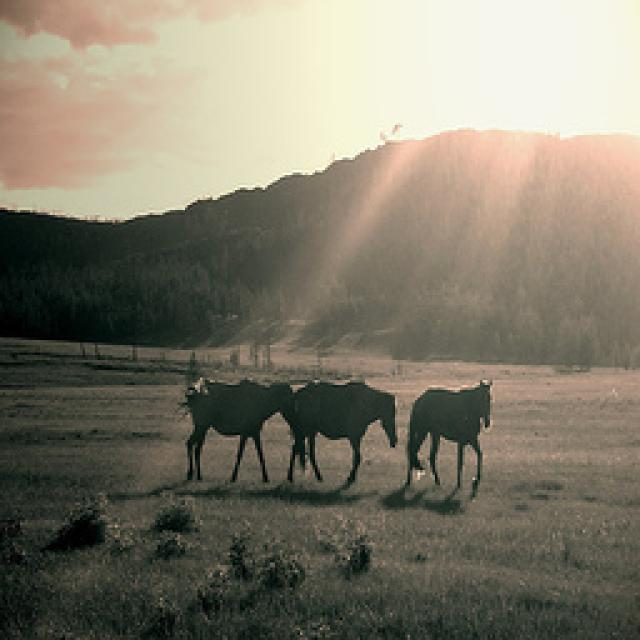not_pig: (178, 375, 298, 483), (283, 380, 398, 485), (402, 378, 492, 498)
